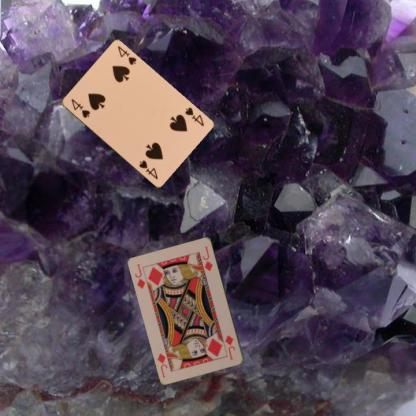4s: (68, 96, 91, 120), (182, 104, 205, 128)
Jd: (132, 261, 147, 290), (222, 332, 236, 361)
